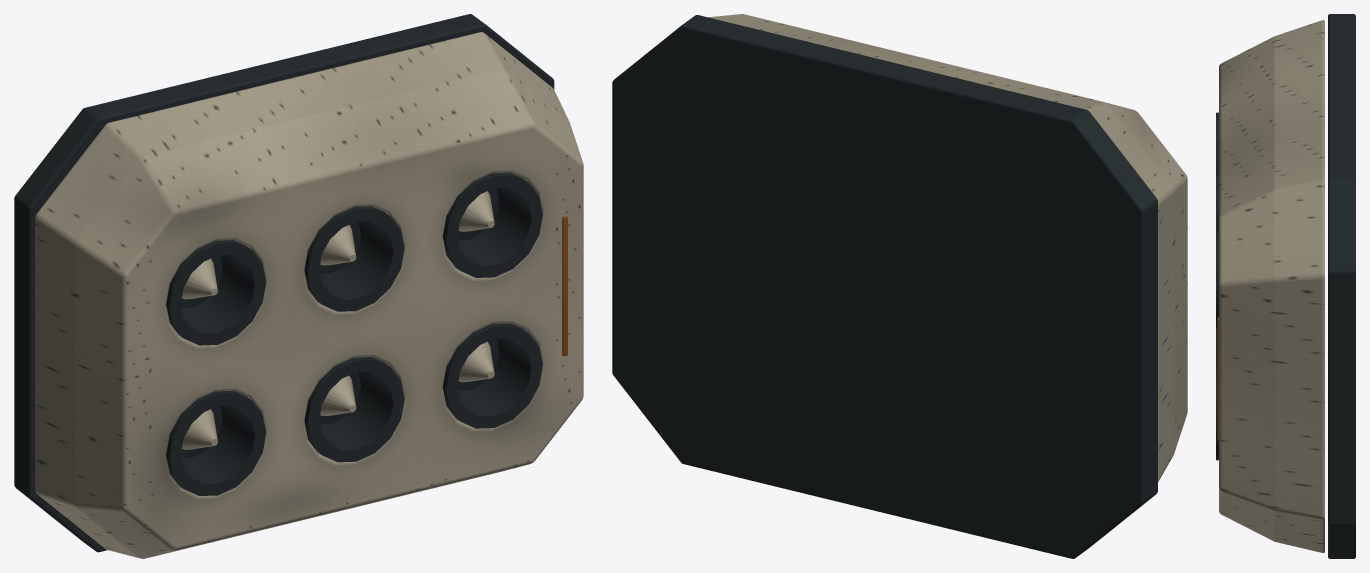
Rendered from rocket_basket.glb.
3 views of the same model, side by side, from view 1: azimuth 30°, elevation 25°; view 2: azimuth 150°, elevation 25°; view 3: azimuth 270°, elevation 25° (orthographic). The views are drawn at different scales.
Parts seen in each view (by area): view 1: ivory, steel, paint; view 2: steel, ivory; view 3: ivory, steel, paint.
Boxes of the visible parts, x1,y1,x2,y2 form: ivory: (35,32,583,558); steel: (14,14,554,552); paint: (562,216,567,356); steel: (612,15,1157,558); ivory: (709,14,1187,481); ivory: (1219,20,1324,552); steel: (1216,14,1355,558); paint: (1217,317,1218,440).
Size of the model in its own units: 0.19 by 0.15 by 0.05.
3 materials, 3 textured.
